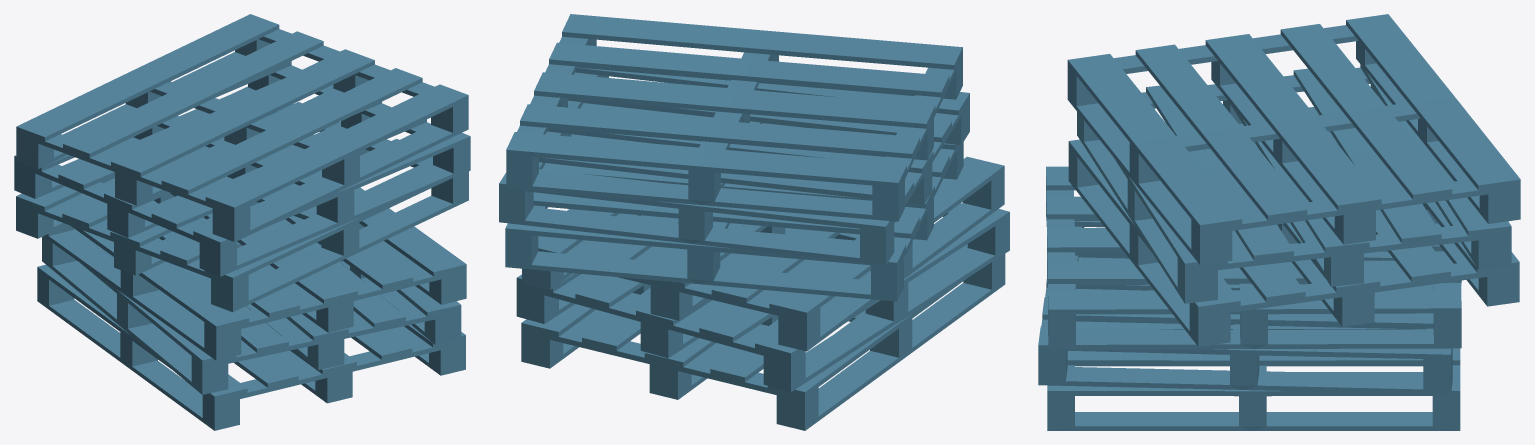
File: GJ_Decor_PaletPile.fbx
3 renders of one model, left to right at view 1: azimuth 30°, elevation 25°; view 2: azimuth 150°, elevation 25°; view 3: azimuth 270°, elevation 25°, orthographic. The views are drawn at different scales.
Parts seen in each view (by area): view 1: GJ_Decor_PaletPile; view 2: GJ_Decor_PaletPile; view 3: GJ_Decor_PaletPile.
Boxes of the visible parts, bbox=[...] form: GJ_Decor_PaletPile: bbox=[14, 14, 470, 430]; GJ_Decor_PaletPile: bbox=[499, 14, 1009, 430]; GJ_Decor_PaletPile: bbox=[1038, 14, 1520, 430].
Bounding box in the file's own units: 13.02 × 7.03 × 12.57.
